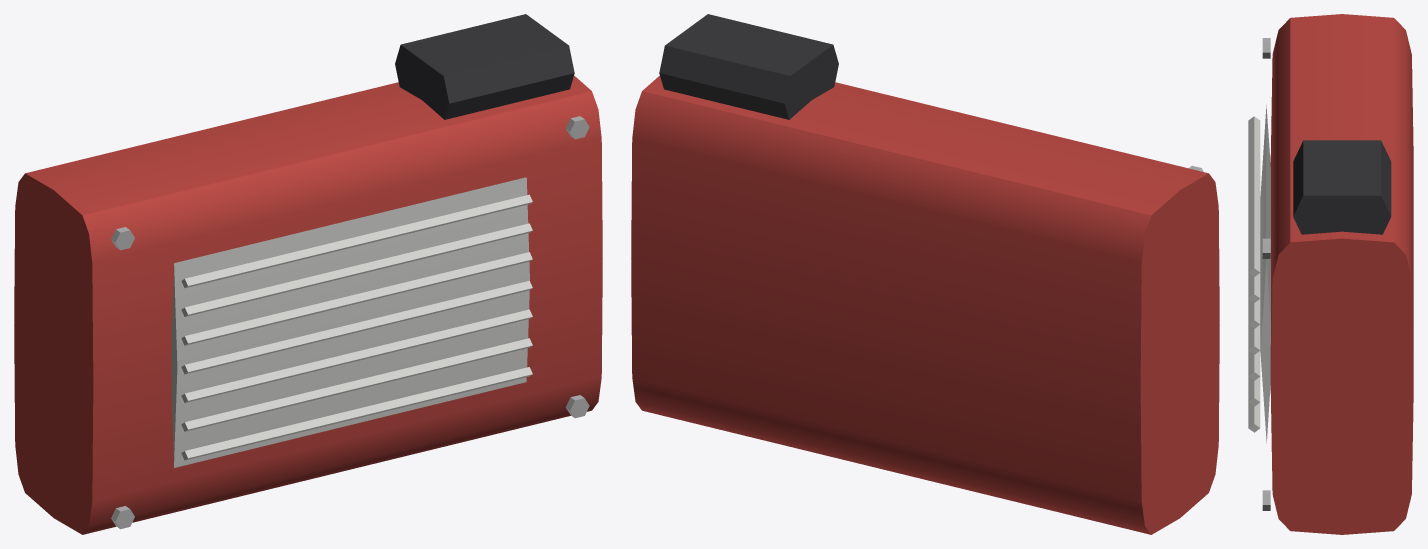
The picture shows the model from 3 angles, left to right: view 1: azimuth 30°, elevation 25°; view 2: azimuth 150°, elevation 25°; view 3: azimuth 270°, elevation 25°; orthographic projection. The views are drawn at different scales.
Parts seen in each view (by area): view 1: box; view 2: box; view 3: box.
Boxes of the visible parts, x1,y1,x2,y2 form: box: (14, 14, 602, 534); box: (631, 14, 1219, 534); box: (1248, 14, 1413, 534).
Size of the model in its own units: 0.13 by 0.0897 by 0.0405.
